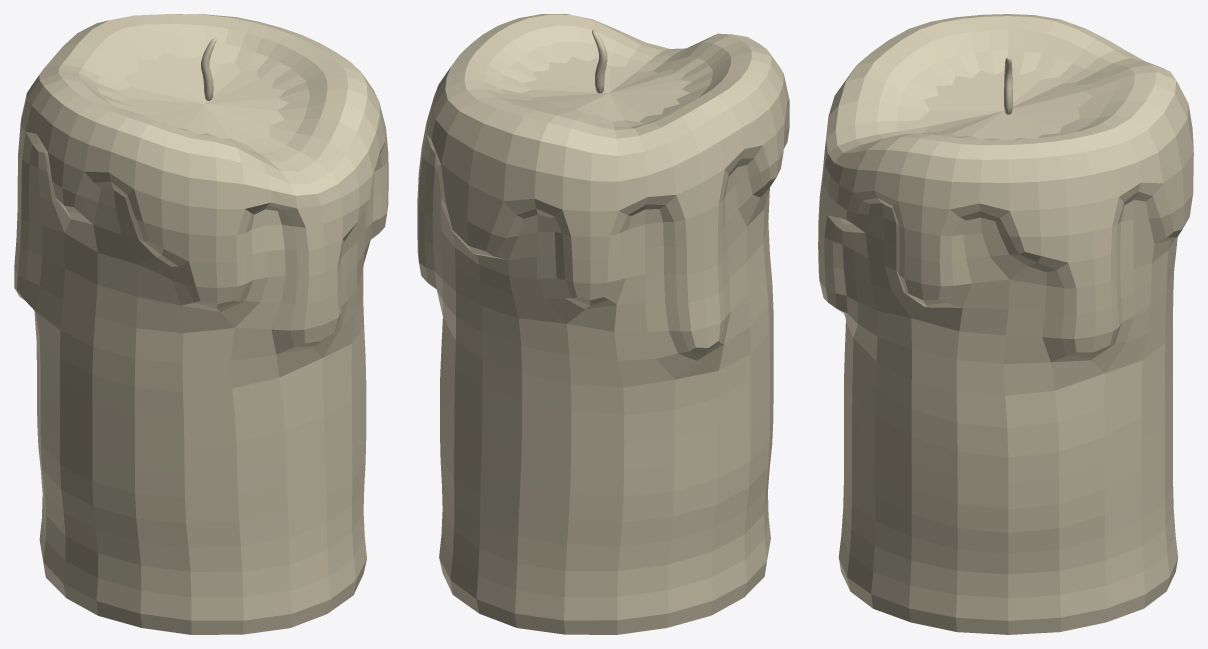
The model's file is CandleFrumpyLarge.fbx.
3 views of the same model, side by side, from view 1: azimuth 30°, elevation 25°; view 2: azimuth 150°, elevation 25°; view 3: azimuth 270°, elevation 25° (orthographic). The views are drawn at different scales.
Parts seen in each view (by area): view 1: LargeFrumpyCandle; view 2: LargeFrumpyCandle; view 3: LargeFrumpyCandle.
Part boxes in pixels (left/top/right/bottom): LargeFrumpyCandle: left=14, top=14, right=388, bottom=634; LargeFrumpyCandle: left=417, top=14, right=789, bottom=634; LargeFrumpyCandle: left=818, top=14, right=1193, bottom=634.
Size of the model in its own units: 14.26 by 23.63 by 15.18.
